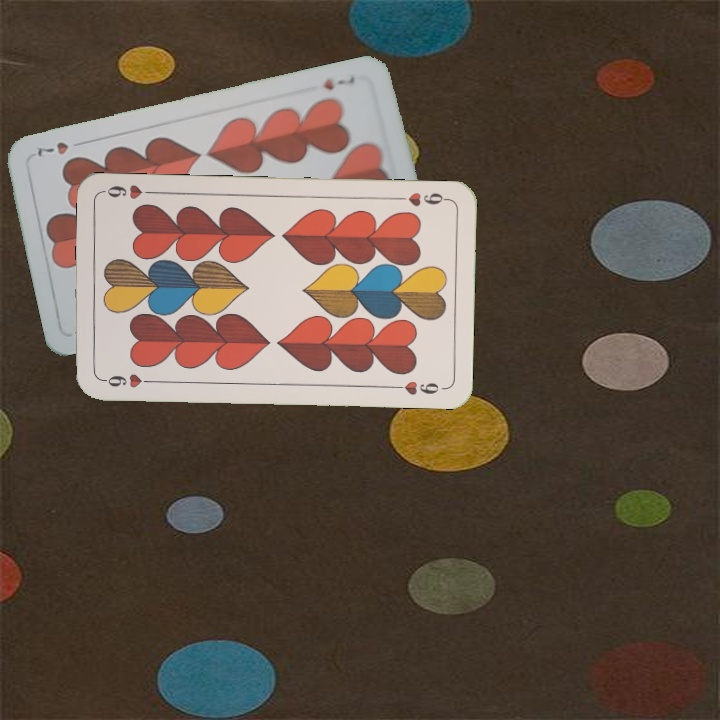H7: (319, 72, 358, 93)
H9: (392, 188, 451, 209), (97, 369, 156, 390)
